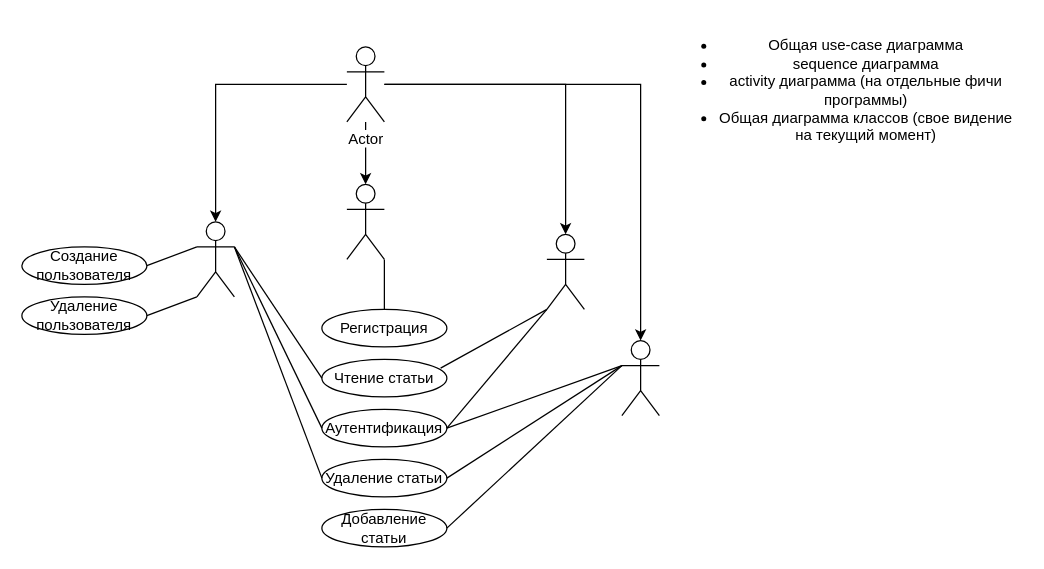
Image size: 1044x569. Some labels were removed from this diagram. The shapes that lost their labels are listed below. From the top down, each one's centre as x and y in pixels, then its label:
At pixel 365 221: "Гость".
At pixel 215 259: "Администратор".
At pixel 565 271: "Пользователь".
At pixel 640 377: "Автор".
